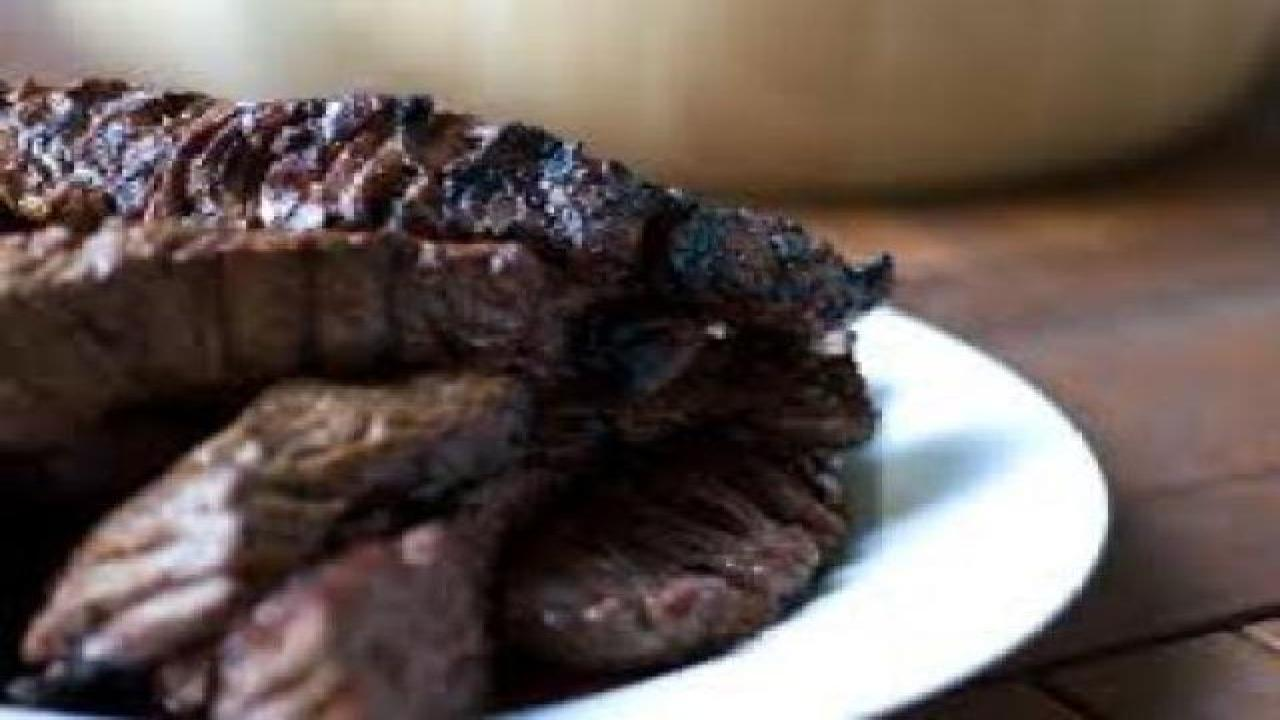Carne: (0, 78, 917, 696)
